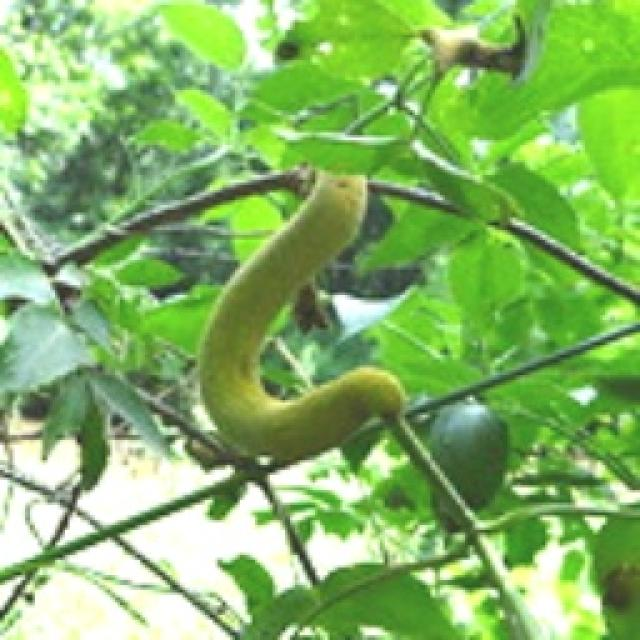Elderberry_rust: (192, 165, 408, 467)
